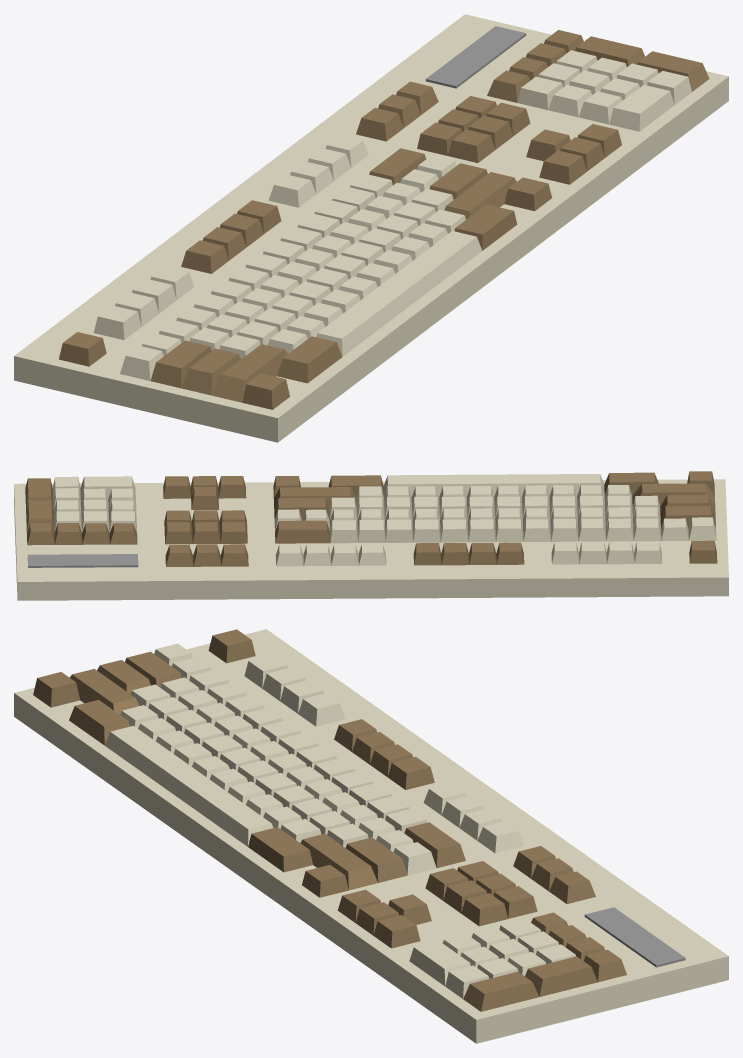
File: OldKeyboard.fbx
3 renders of one model, top to bottom at view 1: azimuth 30°, elevation 25°; view 2: azimuth 150°, elevation 25°; view 3: azimuth 270°, elevation 25°, orthographic. The views are drawn at different scales.
Visible parts, largest first — view 1: Cube.007; view 2: Cube.007; view 3: Cube.007.
Boxes of the visible parts, x1,y1,x2,y2 form: Cube.007: (14, 14, 728, 442); Cube.007: (14, 471, 728, 600); Cube.007: (14, 629, 728, 1043).
Bounding box in the file's own units: 0.5132 × 0.0253 × 0.3967.
